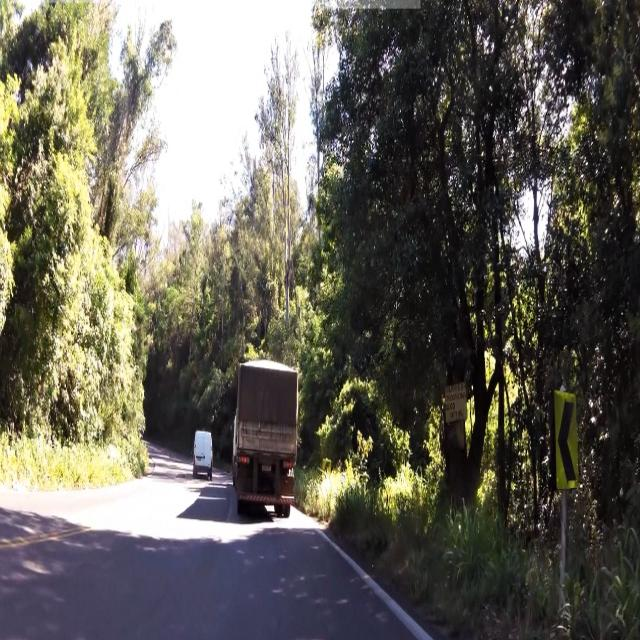Del: (550, 390, 580, 488)
